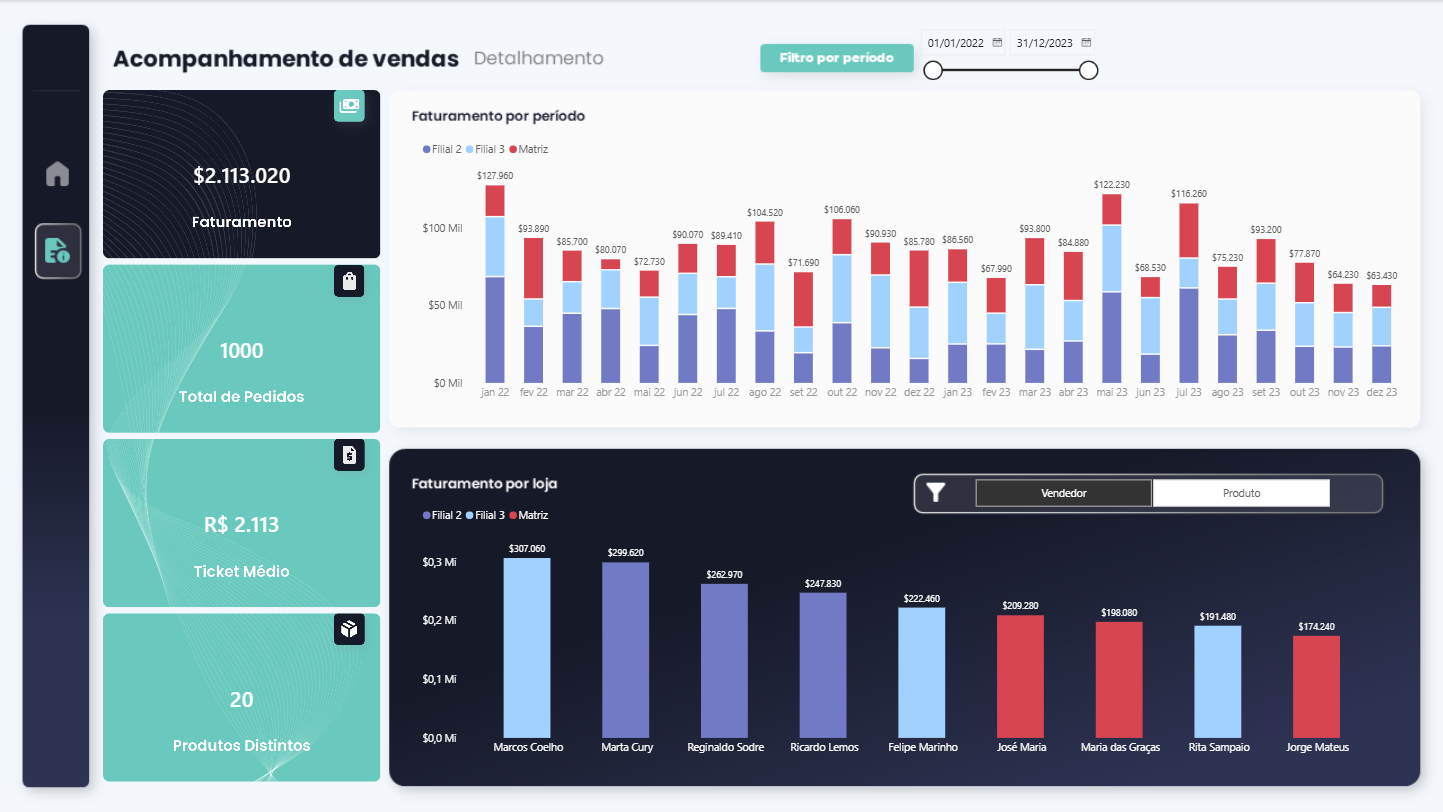

The dashboard page shown, as its layout file describes it:
{"tool":"powerbi","page":{"name":"Detalhamento","canvas":[1920,1080],"ordinal":1},"visuals":[{"type":"slicer","fields":{"Values":["dCalendario.Date"]},"box":[1217,34.6,246.4,75.6],"z":0},{"type":"actionButton","box":[40.8,198,72.6,75.6],"z":1},{"type":"columnChart","fields":{"Category":["dCalendario.MêsAno"],"Series":["dLoja.TipoLoja"],"Y":["Medidas.faturamento"]},"box":[545.3,168.9,1342,384.4],"z":2},{"type":"columnChart","fields":{"Category":["dVendedor.NomeVendedor"],"Series":["dLoja.TipoLoja"],"Y":["Medidas.faturamento"]},"box":[545.3,655.7,1308.8,369.8],"z":3},{"type":"slicer","fields":{"Values":["Filtro_Vendor_Produto.Filtro_Vendor_Produto"]},"box":[1277.3,636.2,510.9,39.6],"z":5},{"type":"cardVisual","fields":{"Data":["Medidas.faturamento","Medidas.qtde_pedidos","Medidas.ticket_medio","Medidas.produtos_distintos"]},"box":[137,119.7,369.8,921.7],"z":6}]}

Visuals, with their boxes on the page's 1920x1080 design canvas (x1, y1, x2, y2). These are canvas units, not pixel positions in the 1443x812 screenshot, which may show the page scaled, cropped or inside an application window:
slicer - dCalendario.Date: (x1=1217, y1=35, x2=1463, y2=110)
actionButton: (x1=41, y1=198, x2=113, y2=274)
columnChart - dCalendario.MêsAno x dLoja.TipoLoja: (x1=545, y1=169, x2=1887, y2=553)
columnChart - dVendedor.NomeVendedor x dLoja.TipoLoja: (x1=545, y1=656, x2=1854, y2=1026)
slicer - Filtro_Vendor_Produto.Filtro_Vendor_Produto: (x1=1277, y1=636, x2=1788, y2=676)
cardVisual - Medidas.faturamento x Medidas.qtde_pedidos: (x1=137, y1=120, x2=507, y2=1041)
